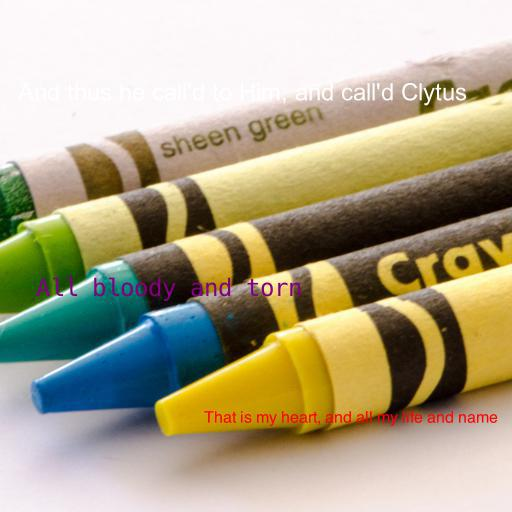Arial: (17, 82, 467, 106)
Menlo: (36, 277, 302, 301)
SF Pro: (204, 411, 498, 427)
